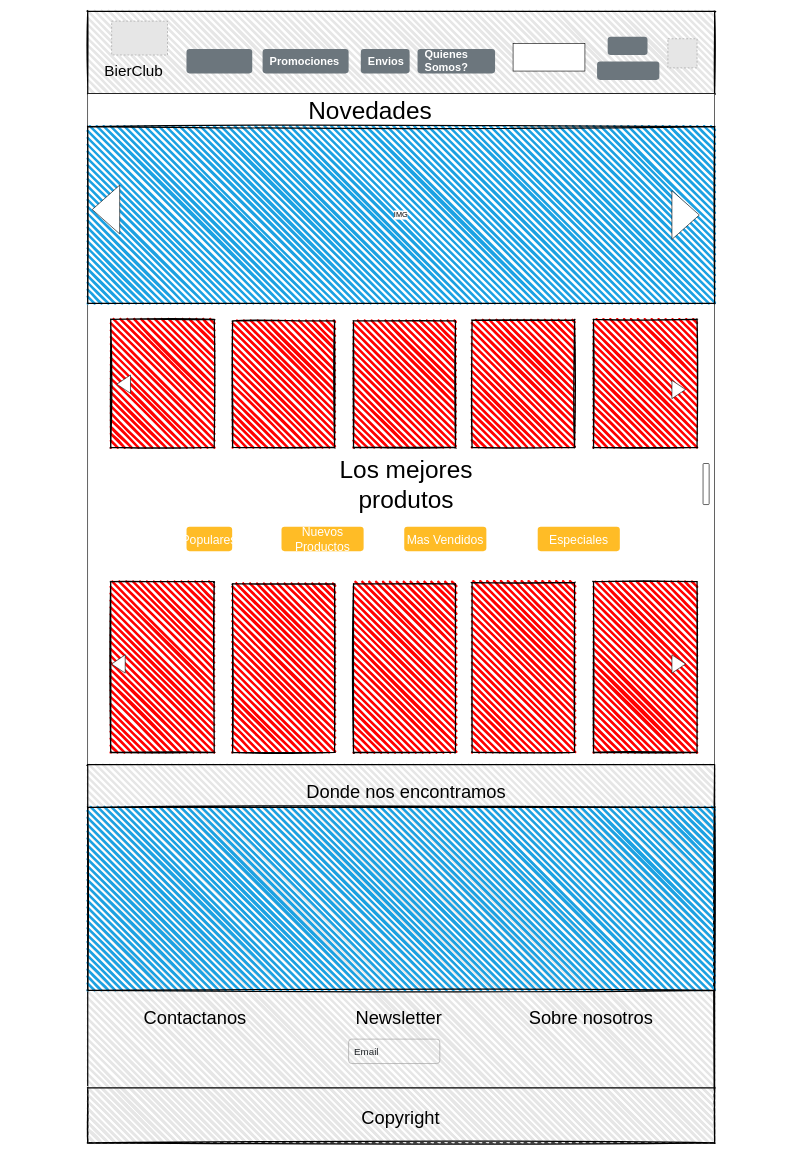
Some shapes in this 808 by 1154 pixel diagram are drawn without their labels. Grey dashed boxes stand in for pictures. Each missing label, with the box of its shape:
Google map: (87, 806, 715, 991)
Login: (607, 36, 647, 55)
Productos: (186, 49, 252, 73)
Que estas buscando?: (512, 43, 585, 71)
Registrarse: (597, 61, 659, 80)
